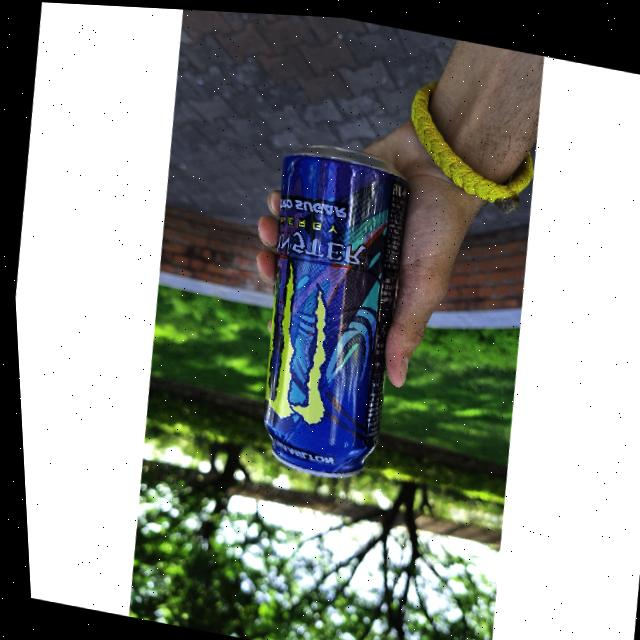Monster LH44: (228, 123, 437, 494)
